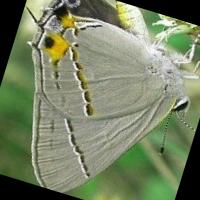butterfly: (25, 0, 190, 191)
